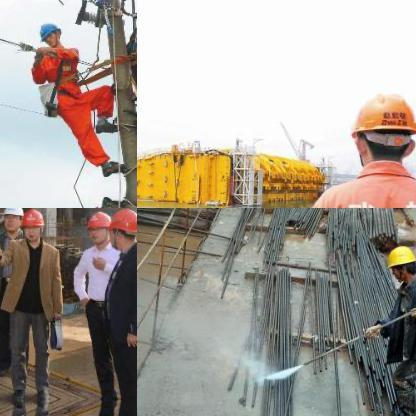Helmet: (340, 73, 415, 174), (384, 241, 415, 284), (340, 0, 415, 17), (106, 208, 136, 250), (84, 208, 112, 244), (20, 208, 45, 243), (35, 18, 63, 46), (0, 208, 23, 232)
